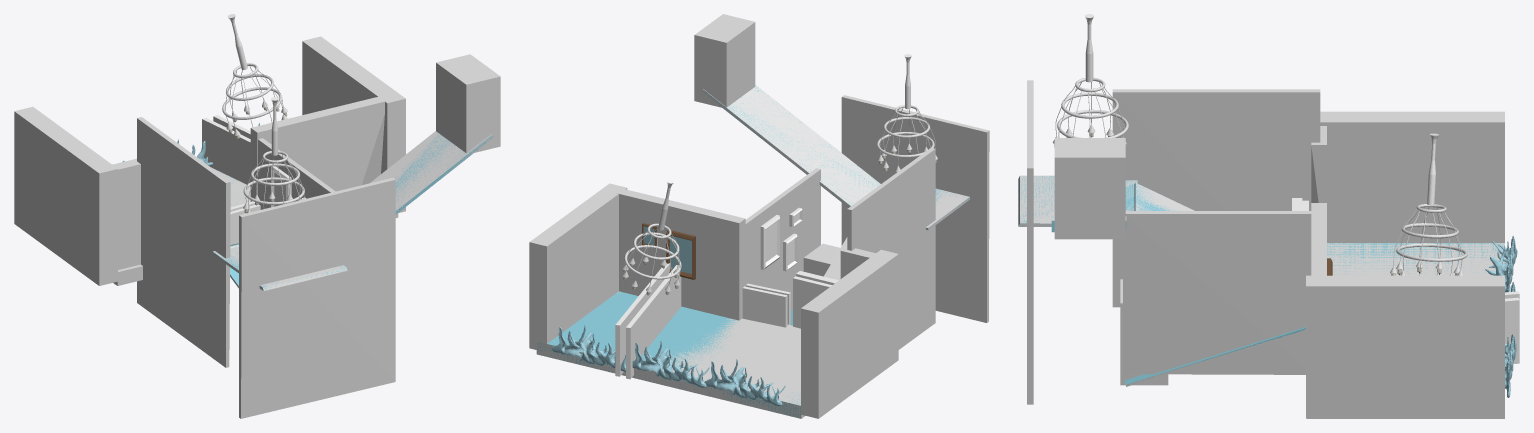
The model's file is stairy_detail_prev.glb.
3 views of the same model, side by side, from view 1: azimuth 30°, elevation 25°; view 2: azimuth 150°, elevation 25°; view 3: azimuth 270°, elevation 25° (orthographic). The views are drawn at different scales.
Parts seen in each view (by area): view 1: wall_1, wall_7, wall_3, wall_2, wall_4, door_to_roof, floor_1, wall_5, camBox_room_camera.2, wall_6, floor_detailed, Cube; view 2: floor_1, wall_1, wall_3, wall_4, wall_7, wall_2, floor_detailed, wall_6, door_to_roof, camBox_room_camera.2, camBox_room_camera.1, Cube.003 (+11 smaller); view 3: wall_6, wall_4, wall_7, wall_3, floor_1, door_to_roof, floor_detailed, wall_1, wall_2, wall_5, Cube.003, camBox_left_door_camera.1 (+6 smaller).
Part boxes in pixels (left/top/right/bottom): wall_1: left=239, top=177, right=395, bottom=418; wall_7: left=137, top=117, right=230, bottom=367; wall_3: left=14, top=106, right=117, bottom=285; wall_2: left=250, top=96, right=388, bottom=201; wall_4: left=302, top=36, right=405, bottom=213; door_to_roof: left=436, top=54, right=500, bottom=153; floor_1: left=113, top=131, right=493, bottom=290; wall_5: left=112, top=158, right=140, bottom=269; camBox_room_camera.2: left=202, top=117, right=250, bottom=186; wall_6: left=258, top=138, right=335, bottom=209; floor_detailed: left=212, top=133, right=493, bottom=290; Cube: left=271, top=166, right=291, bottom=207; floor_1: left=536, top=85, right=969, bottom=418; wall_1: left=841, top=95, right=989, bottom=322; wall_3: left=801, top=249, right=898, bottom=418; wall_4: left=529, top=183, right=627, bottom=349; wall_7: left=847, top=147, right=935, bottom=349; wall_2: left=615, top=188, right=745, bottom=320; floor_detailed: left=536, top=86, right=969, bottom=418; wall_6: left=745, top=168, right=820, bottom=309; door_to_roof: left=694, top=14, right=755, bottom=107; camBox_room_camera.2: left=626, top=265, right=681, bottom=379; camBox_room_camera.1: left=742, top=286, right=787, bottom=327; Cube.003: left=704, top=359, right=785, bottom=406; wall_6: left=1123, top=211, right=1311, bottom=374; wall_4: left=1306, top=275, right=1504, bottom=417; wall_7: left=1112, top=89, right=1320, bottom=307; wall_3: left=1320, top=111, right=1504, bottom=242; floor_1: left=1018, top=175, right=1504, bottom=418; door_to_roof: left=1054, top=138, right=1125, bottom=239; floor_detailed: left=1018, top=176, right=1504, bottom=386; wall_1: left=1027, top=80, right=1033, bottom=404; wall_2: left=1311, top=203, right=1326, bottom=277; wall_5: left=1311, top=126, right=1326, bottom=202; Cube.003: left=1485, top=235, right=1517, bottom=292; camBox_left_door_camera.1: left=1505, top=297, right=1519, bottom=363.
Size of the model in its own units: 46.47 by 41.49 by 56.31.
